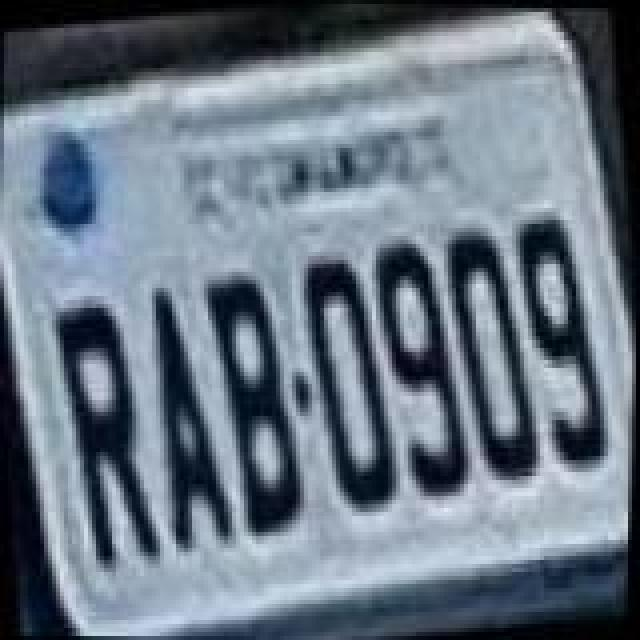9: (364, 236, 476, 500), (508, 214, 620, 466)
A: (142, 280, 246, 552)
B: (198, 270, 318, 542)
O: (292, 254, 408, 510), (434, 226, 550, 482)
R: (46, 296, 170, 568)
